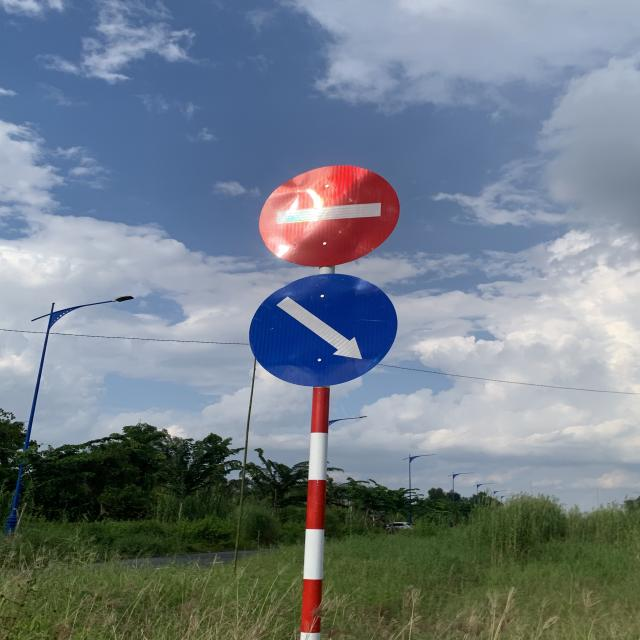Cam_Di_Nguoc_Chieu: (255, 162, 399, 266)
Chi_Huong_Di_Phai: (247, 269, 399, 385)
